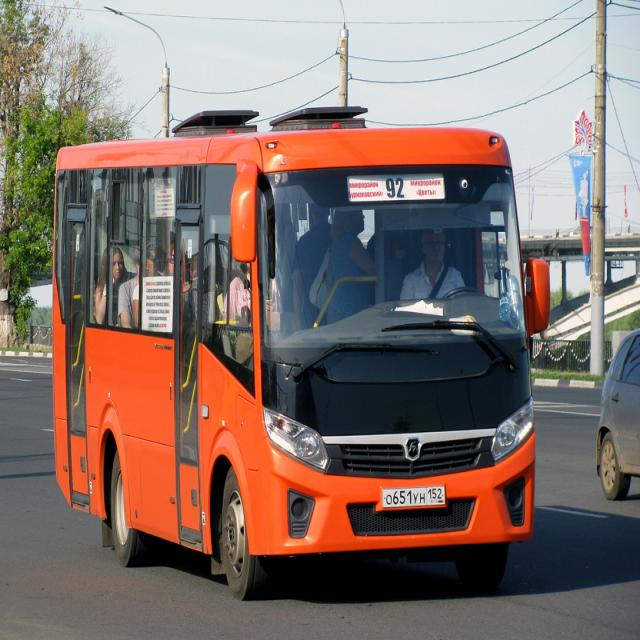number-of-bus: (385, 175, 409, 202)
